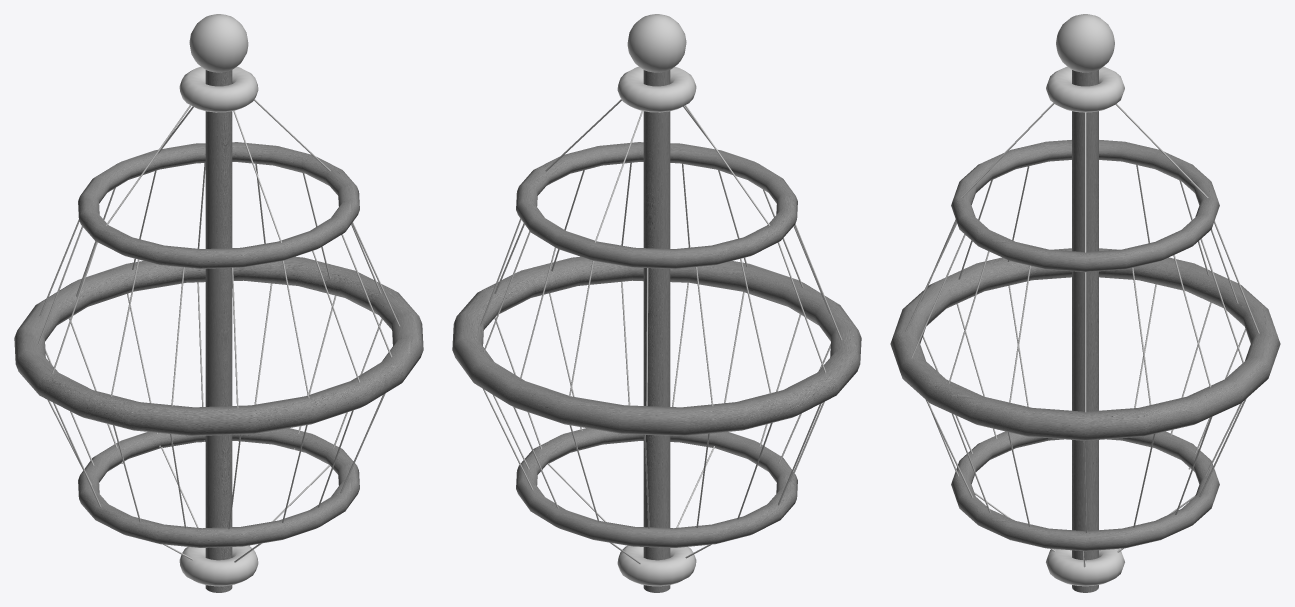
The model's file is Juego1.obj.
3 views of the same model, side by side, from view 1: azimuth 30°, elevation 25°; view 2: azimuth 150°, elevation 25°; view 3: azimuth 270°, elevation 25° (orthographic).
Parts seen in each view (by area): view 1: pasted__pTorus1 group, pTorus1, pCylinder1, pasted__pTorus1 group1, pSphere1, pTorus2, pasted__pTorus2 group24, group22 pasted__pasted__pasted__pasted__pasted__pasted__pasted__, pasted__pasted__pasted__pasted__pCylinder2 pasted__pasted__paste, group22 pasted__pasted__pasted__pasted__pasted__pCylinder2 paste, pasted__pasted__pasted__pasted__pasted__pasted__pasted__pasted__; view 2: pasted__pTorus1 group, pTorus1, pCylinder1, pasted__pTorus1 group1, pSphere1, pTorus2, pasted__pTorus2 group24, group22 pasted__pasted__pasted__pasted__pasted__pasted__pasted__, pasted__pasted__pasted__pasted__pCylinder2 pasted__pasted__paste, pasted__pasted__pasted__pasted__pasted__pasted__pasted__pasted__, group22 pasted__pasted__pasted__pasted__pasted__pCylinder2 paste; view 3: pasted__pTorus1 group, pTorus1, pCylinder1, pasted__pTorus1 group1, pSphere1, pTorus2, pasted__pTorus2 group24, group22 pasted__pasted__pasted__pasted__pasted__pasted__pasted__, pasted__pasted__pasted__pasted__pCylinder2 pasted__pasted__paste, group22 pasted__pasted__pasted__pasted__pasted__pCylinder2 paste, pasted__pasted__pasted__pCylinder2 pasted__pasted__group2 pasted, pasted__pasted__pasted__pasted__pasted__pasted__pasted__pasted__.
Boxes of the visible parts, left/top/right/bottom form: pasted__pTorus1 group: left=14, top=256, right=423, bottom=436; pTorus1: left=78, top=142, right=359, bottom=268; pCylinder1: left=205, top=70, right=232, bottom=592; pasted__pTorus1 group1: left=78, top=428, right=359, bottom=547; pSphere1: left=189, top=14, right=248, bottom=72; pTorus2: left=179, top=66, right=258, bottom=112; pasted__pTorus2 group24: left=179, top=545, right=258, bottom=586; group22 pasted__pasted__pasted__pasted__pasted__pasted__pasted__: left=45, top=318, right=140, bottom=522; pasted__pasted__pasted__pasted__pCylinder2 pasted__pasted__paste: left=197, top=163, right=307, bottom=522; group22 pasted__pasted__pasted__pasted__pasted__pCylinder2 paste: left=197, top=282, right=272, bottom=529; pasted__pasted__pasted__pasted__pasted__pasted__pasted__pasted__: left=37, top=188, right=115, bottom=344; pasted__pTorus1 group: left=452, top=256, right=861, bottom=436; pTorus1: left=516, top=142, right=797, bottom=268; pCylinder1: left=643, top=70, right=670, bottom=592; pasted__pTorus1 group1: left=516, top=428, right=797, bottom=547; pSphere1: left=627, top=14, right=686, bottom=72; pTorus2: left=617, top=66, right=696, bottom=112; pasted__pTorus2 group24: left=617, top=545, right=696, bottom=586; group22 pasted__pasted__pasted__pasted__pasted__pasted__pasted__: left=644, top=401, right=824, bottom=528; pasted__pasted__pasted__pasted__pCylinder2 pasted__pasted__paste: left=483, top=189, right=803, bottom=403; pasted__pasted__pasted__pasted__pasted__pasted__pasted__pasted__: left=646, top=258, right=771, bottom=406; group22 pasted__pasted__pasted__pasted__pasted__pCylinder2 paste: left=483, top=314, right=800, bottom=508; pasted__pTorus1 group: left=890, top=248, right=1280, bottom=440; pTorus1: left=951, top=140, right=1219, bottom=272; pCylinder1: left=1072, top=70, right=1098, bottom=592; pasted__pTorus1 group1: left=951, top=431, right=1219, bottom=551; pSphere1: left=1056, top=14, right=1114, bottom=72; pTorus2: left=1046, top=66, right=1124, bottom=112; pasted__pTorus2 group24: left=1046, top=549, right=1124, bottom=586; group22 pasted__pasted__pasted__pasted__pasted__pasted__pasted__: left=1008, top=284, right=1245, bottom=469; pasted__pasted__pasted__pasted__pCylinder2 pasted__pasted__paste: left=921, top=219, right=1243, bottom=476; group22 pasted__pasted__pasted__pasted__pasted__pCylinder2 paste: left=922, top=335, right=1246, bottom=514; pasted__pasted__pasted__pCylinder2 pasted__pasted__group2 pasted: left=905, top=221, right=1259, bottom=333; pasted__pasted__pasted__pasted__pasted__pasted__pasted__pasted__: left=1136, top=165, right=1238, bottom=304.
Bounding box in the file's own units: 3.82 × 5.73 × 3.55.
